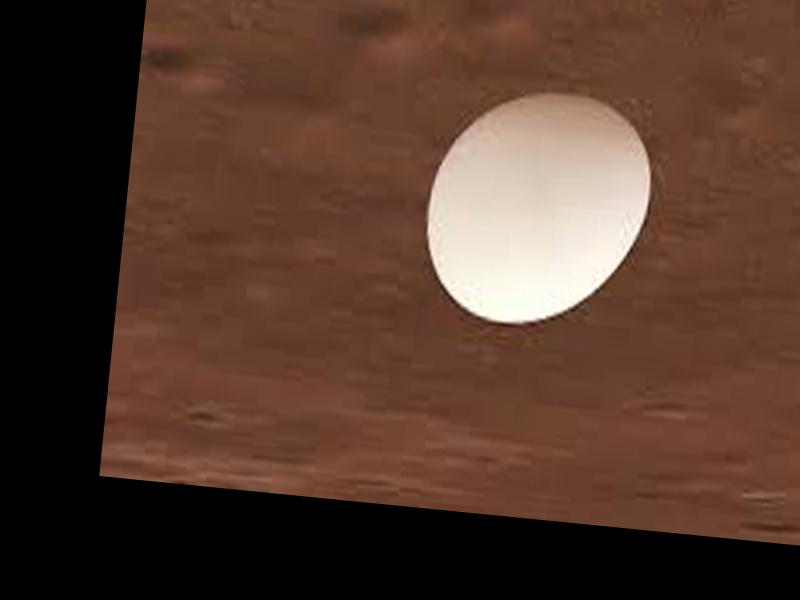Eggs: (417, 82, 661, 335)
